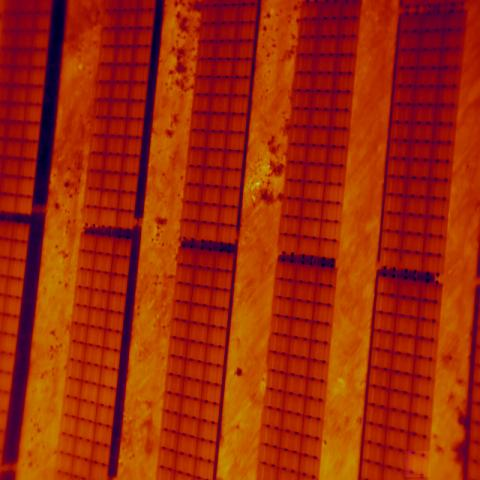fault: (405, 452, 430, 477)
